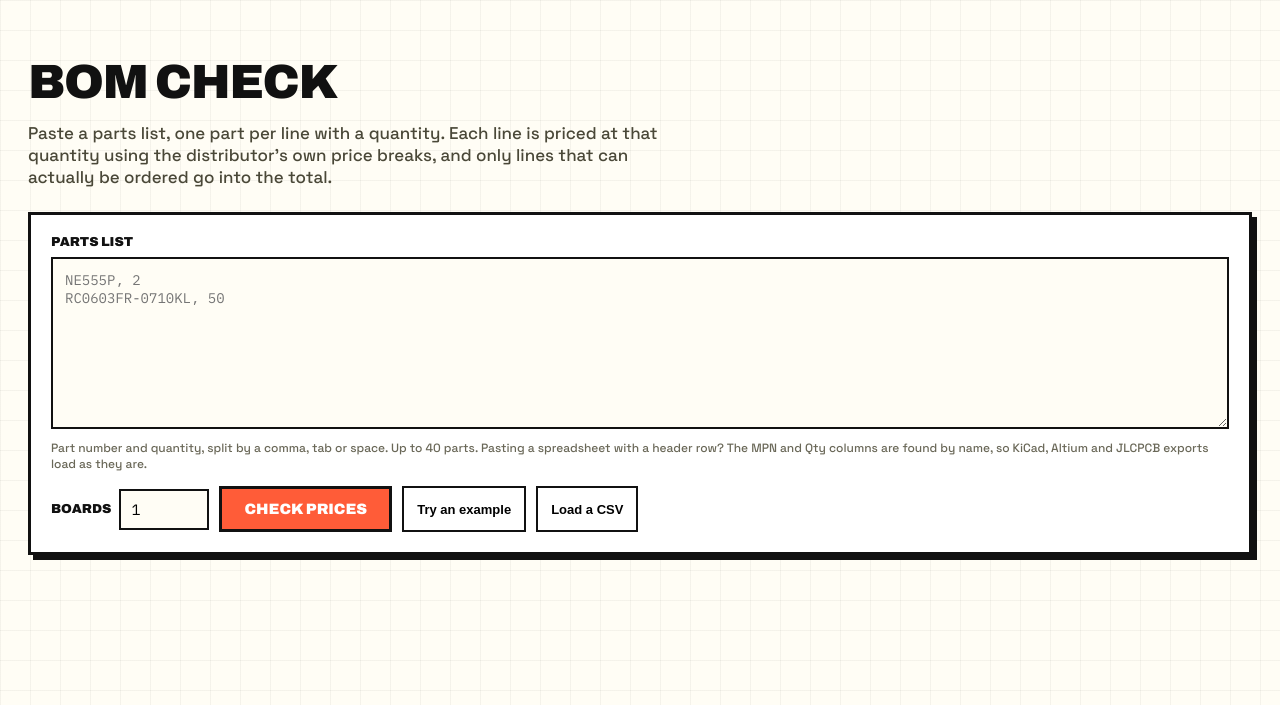
Test: a failed swap lookup says so on its line
Type "CAP 10" into the text box labelled "PARTS LIST".
click(640, 343); type("CAP 10")  # box [51,257,1229,429]
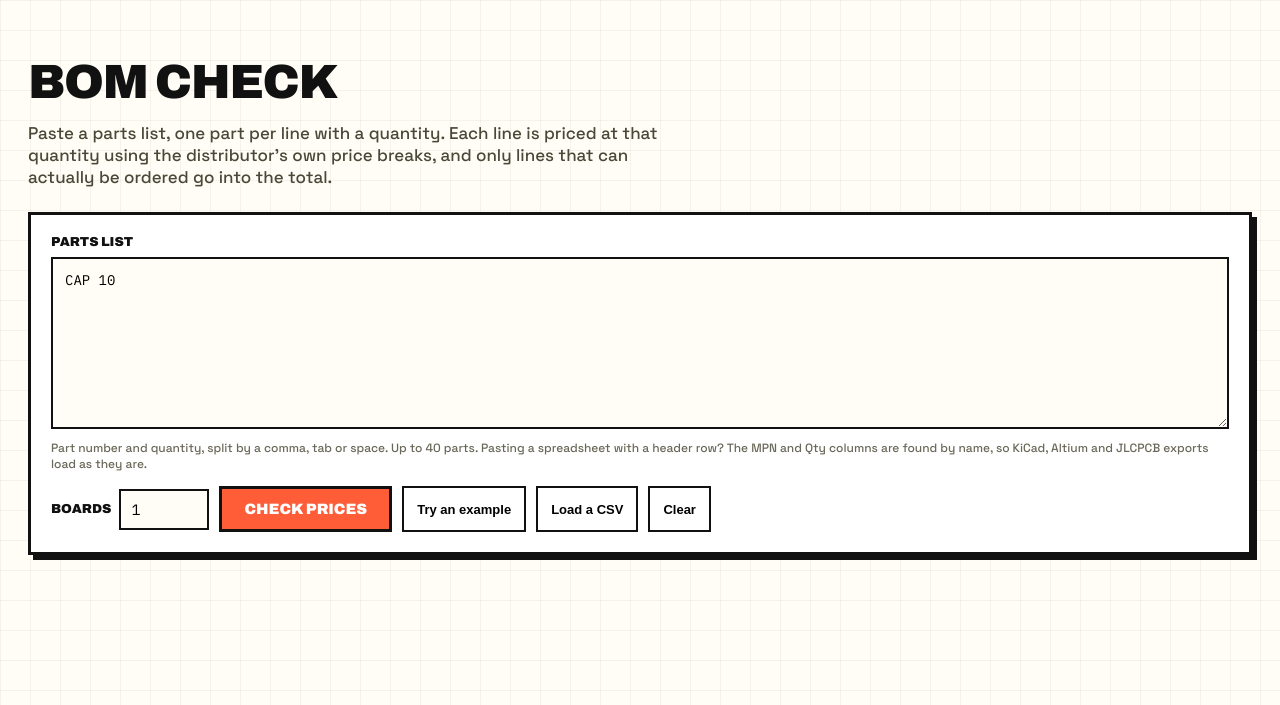
Click the button "CHECK PRICES".
click(306, 509)  # box [219,486,392,532]
(page scrolled)
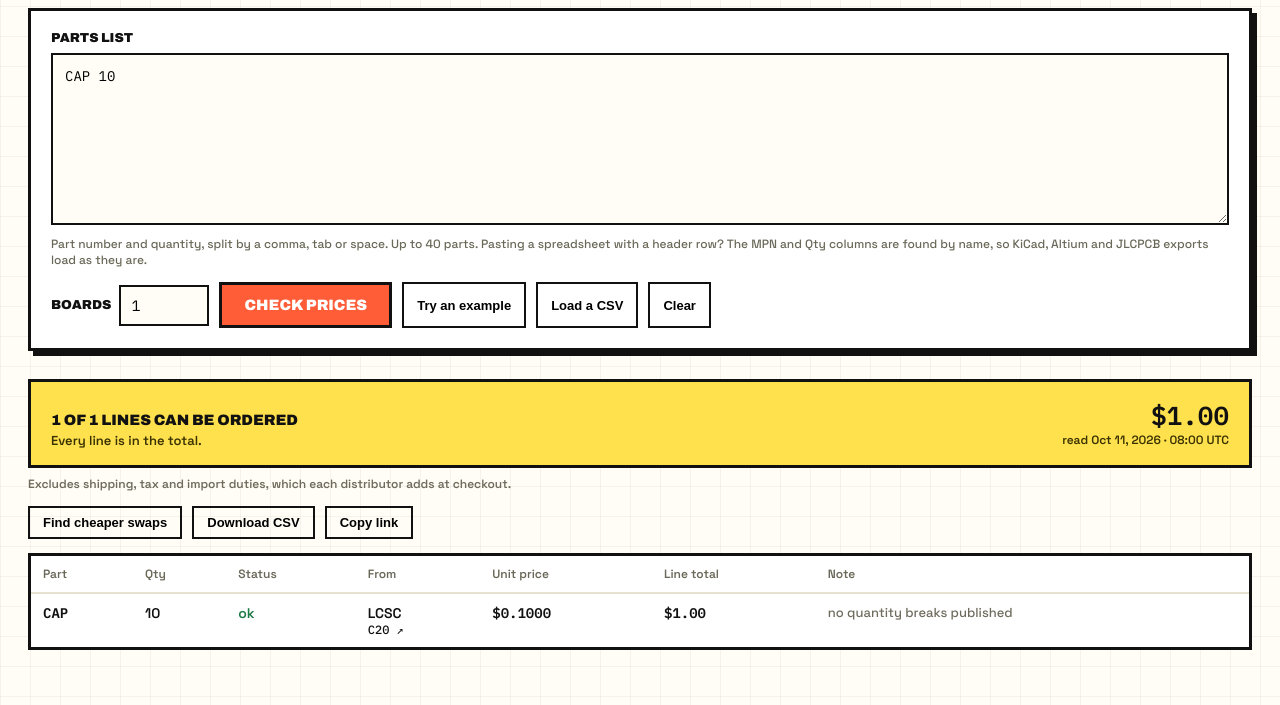
Expected: the button "Find cheaper swaps" is shown
Click the button "Find cheaper swaps".
click(105, 522)  # box [28,506,182,539]
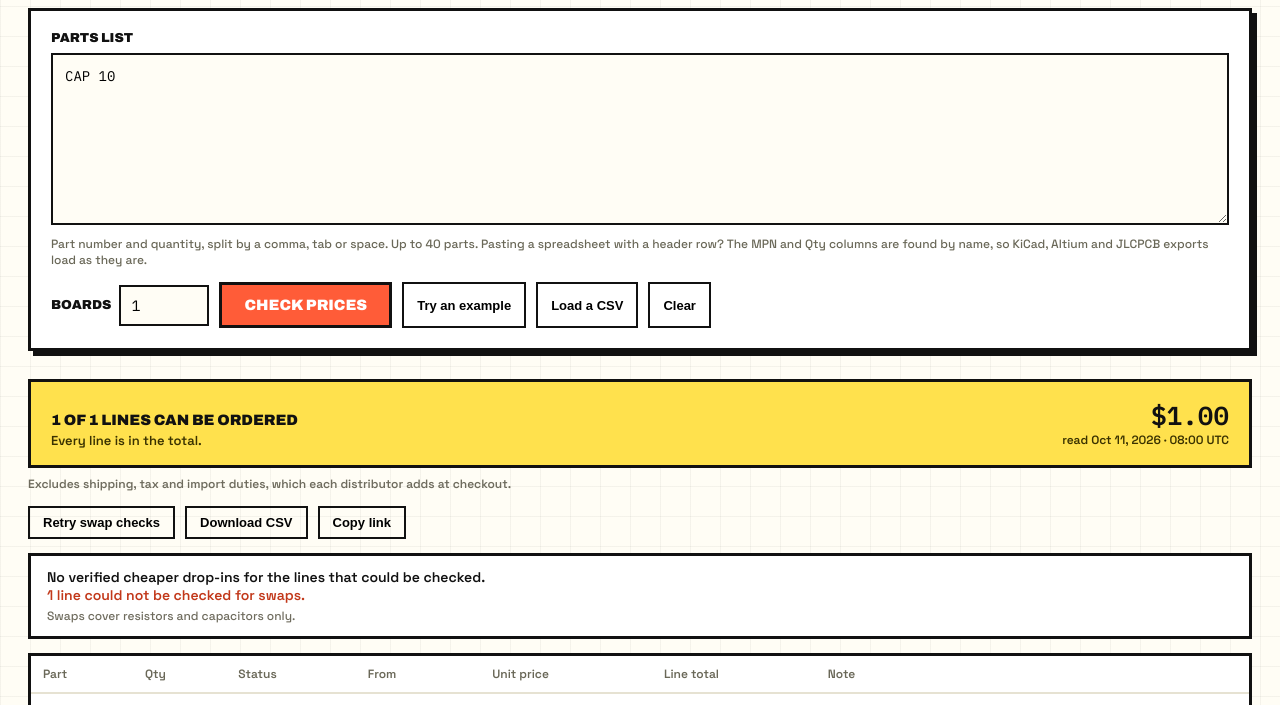
Expected: the button "Retry swap checks" is shown, [28,506,175,539]
